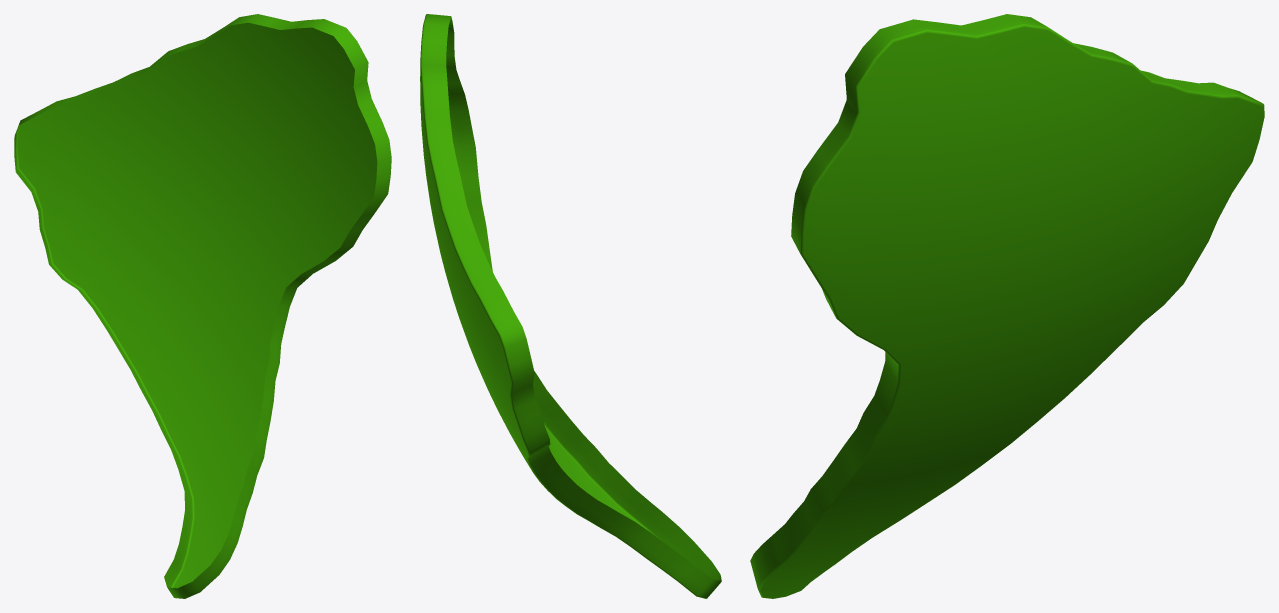
3 renders of one model, left to right at view 1: azimuth 30°, elevation 25°; view 2: azimuth 150°, elevation 25°; view 3: azimuth 270°, elevation 25°, orthographic. The views are drawn at different scales.
Visible parts, largest first — view 1: c7; view 2: c7; view 3: c7.
Part boxes in pixels (box(x1,y1,x2,y2)): c7: box(14, 14, 391, 598); c7: box(420, 14, 721, 598); c7: box(750, 14, 1264, 598).
Size of the model in its own units: 0.4302 by 0.8638 by 0.5711.
